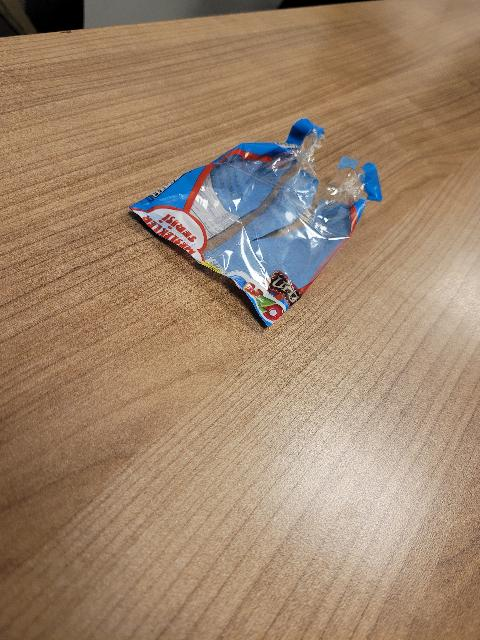Plastik: (127, 117, 397, 334)
